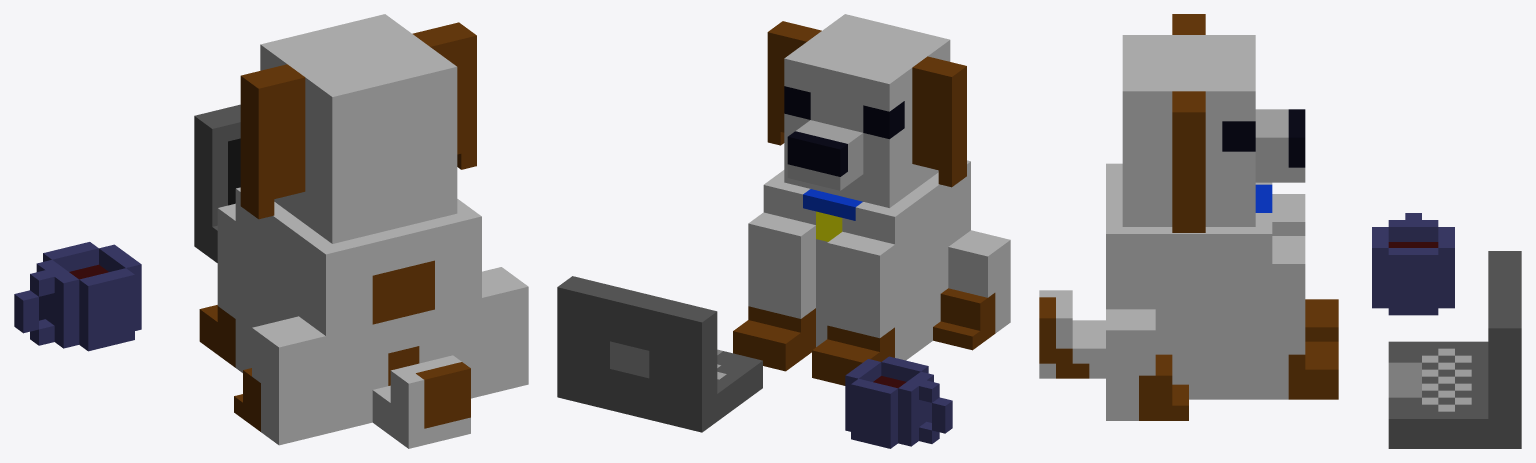
File: krimo.glb
3 views of the same model, side by side, from view 1: azimuth 30°, elevation 25°; view 2: azimuth 150°, elevation 25°; view 3: azimuth 270°, elevation 25° (orthographic). The views are drawn at different scales.
Parts seen in each view (by area): view 1: defaultobject; view 2: defaultobject; view 3: defaultobject.
Boxes of the visible parts, left/top/right/bottom form: defaultobject: left=14, top=14, right=528, bottom=448; defaultobject: left=557, top=14, right=1010, bottom=448; defaultobject: left=1039, top=14, right=1521, bottom=448.
Bounding box in the file's own units: 2.6 × 2 × 2.9.
1 material, 1 textured.
